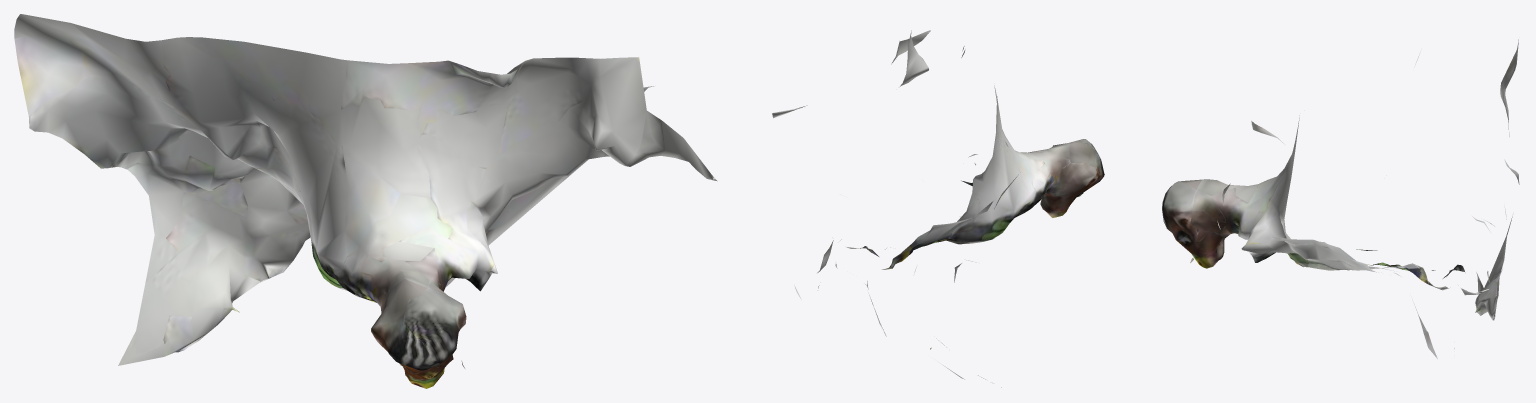
The model's file is hall.glb.
3 views of the same model, side by side, from view 1: azimuth 30°, elevation 25°; view 2: azimuth 150°, elevation 25°; view 3: azimuth 270°, elevation 25° (orthographic). The views are drawn at different scales.
Size of the model in its own units: 1.09 by 0.7069 by 0.9857.
Materials: 1 (1 with a texture image).
